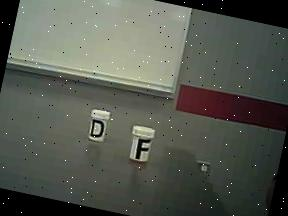Bottle D: (82, 104, 116, 150)
Bottle F: (122, 120, 161, 172)
